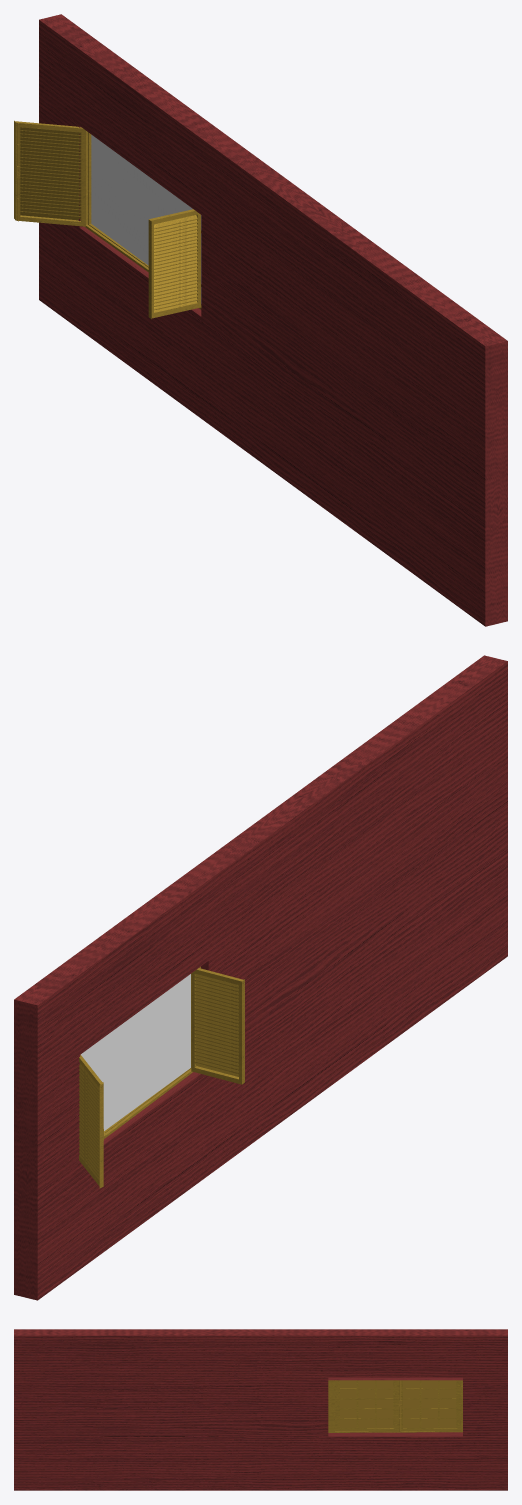
Rendered from simulation.obj.
3 views of the same model, one above another, from view 1: azimuth 30°, elevation 25°; view 2: azimuth 150°, elevation 25°; view 3: azimuth 270°, elevation 25° (orthographic). The views are drawn at different scales.
Parts seen in each view (by area): view 1: 002_Box_-_baked, 001_Merged_Objects, 000_Box; view 2: 002_Box_-_baked, 001_Merged_Objects, 000_Box; view 3: 002_Box_-_baked, 001_Merged_Objects.
Part boxes in pixels (left/top/right/bottom): 002_Box_-_baked: left=39, top=14, right=507, bottom=626; 001_Merged_Objects: left=14, top=120, right=201, bottom=319; 000_Box: left=91, top=134, right=201, bottom=303; 002_Box_-_baked: left=14, top=655, right=507, bottom=1300; 001_Merged_Objects: left=79, top=966, right=244, bottom=1188; 000_Box: left=81, top=974, right=190, bottom=1130; 002_Box_-_baked: left=14, top=1329, right=507, bottom=1490; 001_Merged_Objects: left=328, top=1380, right=462, bottom=1432.
Bounding box in the file's own units: 118 × 426 × 1230.
